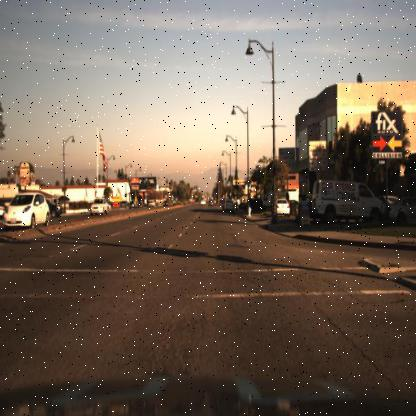car: (312, 175, 385, 221), (4, 192, 49, 230), (46, 196, 64, 221), (272, 197, 290, 218), (89, 197, 112, 213), (223, 198, 234, 216), (125, 198, 136, 209)
